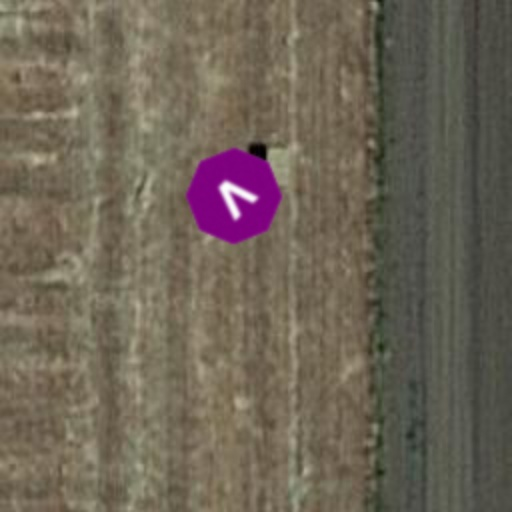octagon: (164, 126, 304, 266)
